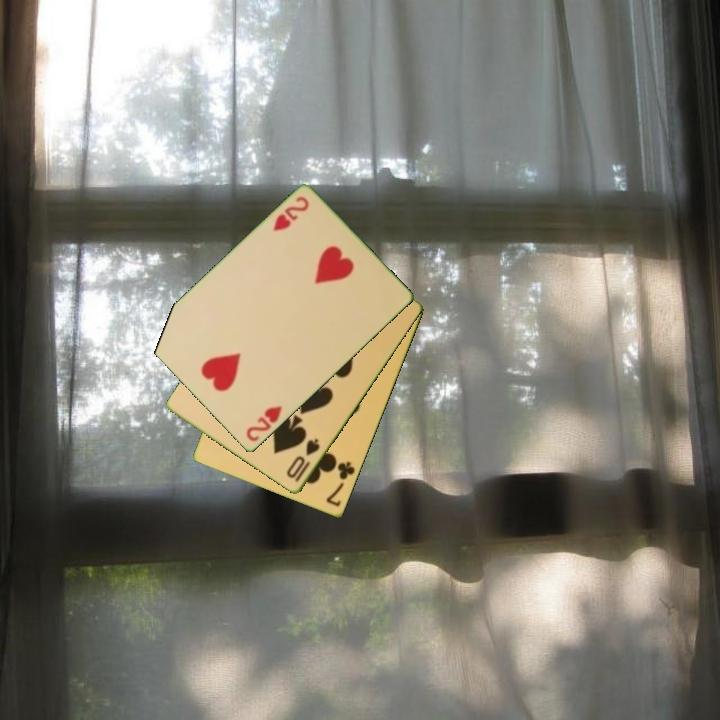10s: (283, 435, 323, 485)
2h: (242, 402, 285, 445), (269, 193, 312, 234)
7c: (323, 458, 358, 510)
